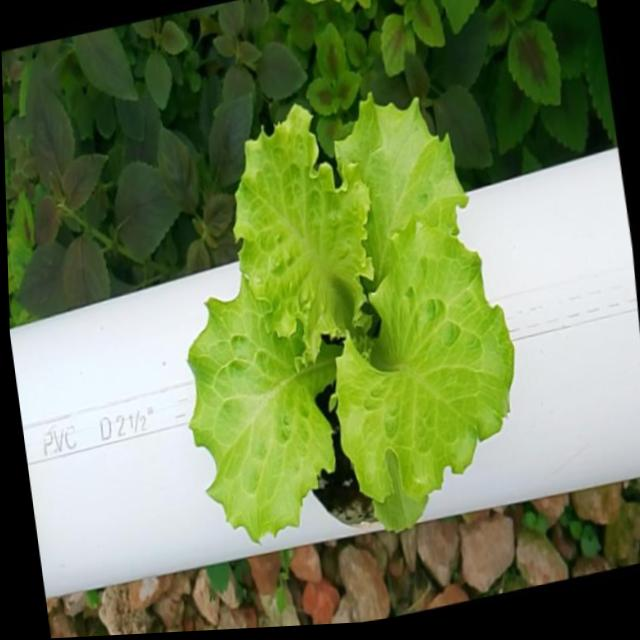Baby: (187, 86, 511, 531)
